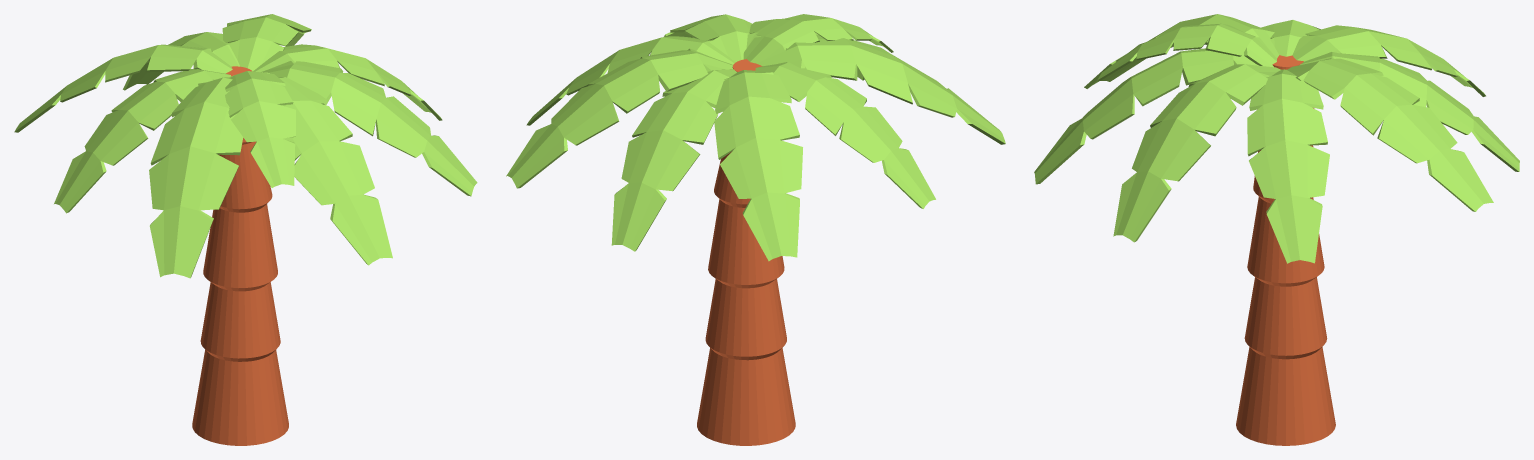
File: palm tree big.fbx
The picture shows the model from 3 angles, left to right: view 1: azimuth 30°, elevation 25°; view 2: azimuth 150°, elevation 25°; view 3: azimuth 270°, elevation 25°; orthographic projection. The views are drawn at different scales.
Parts seen in each view (by area): view 1: Plane, Cylinder.001; view 2: Plane, Cylinder.001; view 3: Plane, Cylinder.001.
Part boxes in pixels (box(x1,y1,x2,y2)): Plane: box(14, 14, 477, 278); Cylinder.001: box(192, 66, 288, 445); Plane: box(506, 14, 1005, 261); Cylinder.001: box(697, 59, 795, 445); Plane: box(1034, 14, 1519, 263); Cylinder.001: box(1236, 55, 1335, 445).
Bounding box in the file's own units: 911 × 856 × 971.
